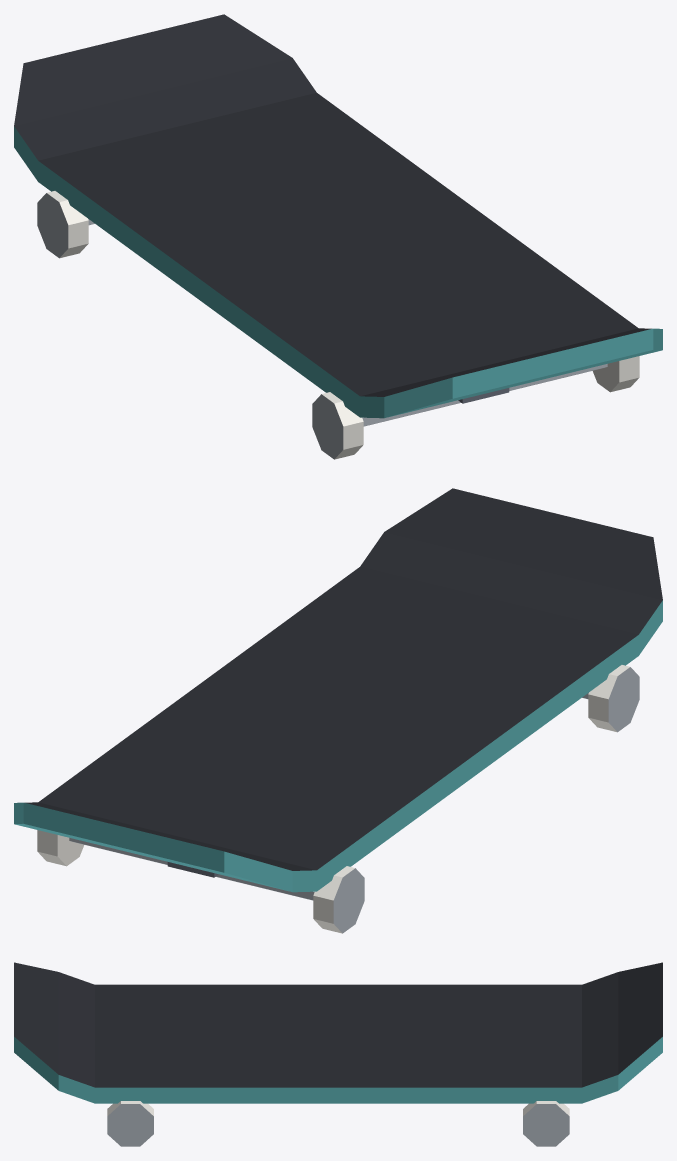
Rendered from S_Skate_1.fbx.
3 views of the same model, one above another, from view 1: azimuth 30°, elevation 25°; view 2: azimuth 150°, elevation 25°; view 3: azimuth 270°, elevation 25° (orthographic). The views are drawn at different scales.
Parts seen in each view (by area): view 1: S_Skate_1; view 2: S_Skate_1; view 3: S_Skate_1.
Boxes of the visible parts, x1=… form: S_Skate_1: x1=14, y1=14, x2=662, y2=459; S_Skate_1: x1=14, y1=488, x2=662, y2=933; S_Skate_1: x1=14, y1=962, x2=662, y2=1146.
Bounding box in the file's own units: 0.51 × 0.2012 × 1.28.
